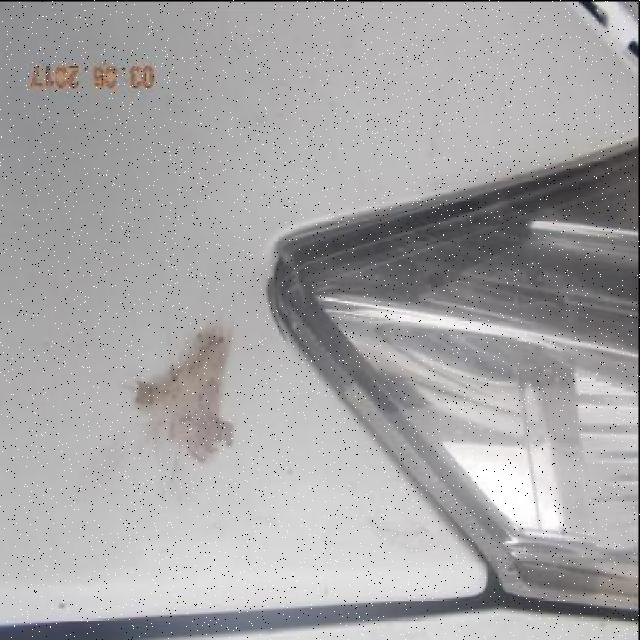damage: (136, 322, 232, 471)
